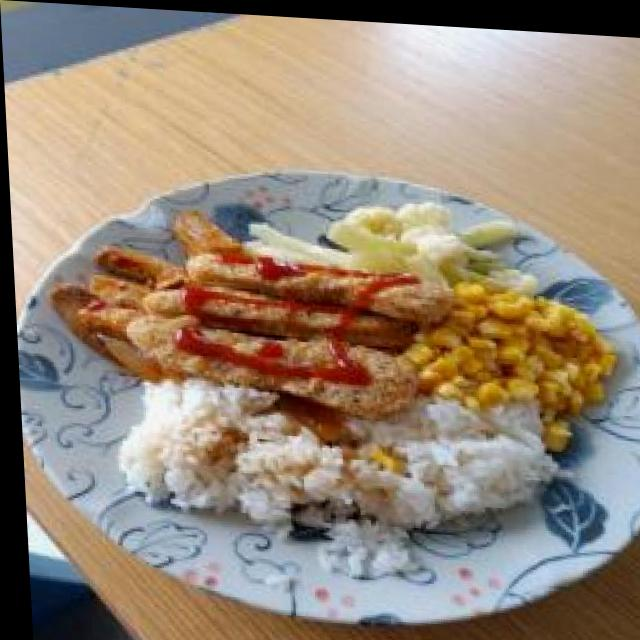rice: (110, 372, 562, 576)
